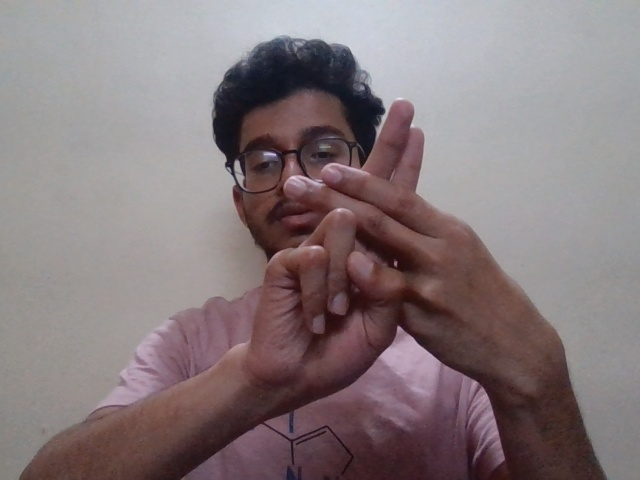disabled: (220, 94, 593, 425)
